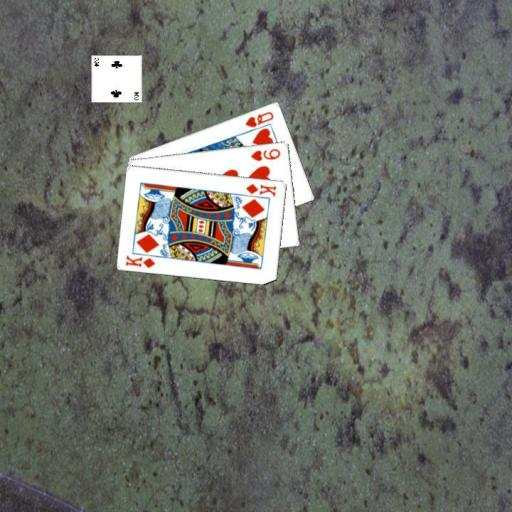9H: (248, 145, 283, 162)
KD: (243, 181, 278, 198), (123, 253, 157, 270)
QH: (242, 108, 275, 129)
